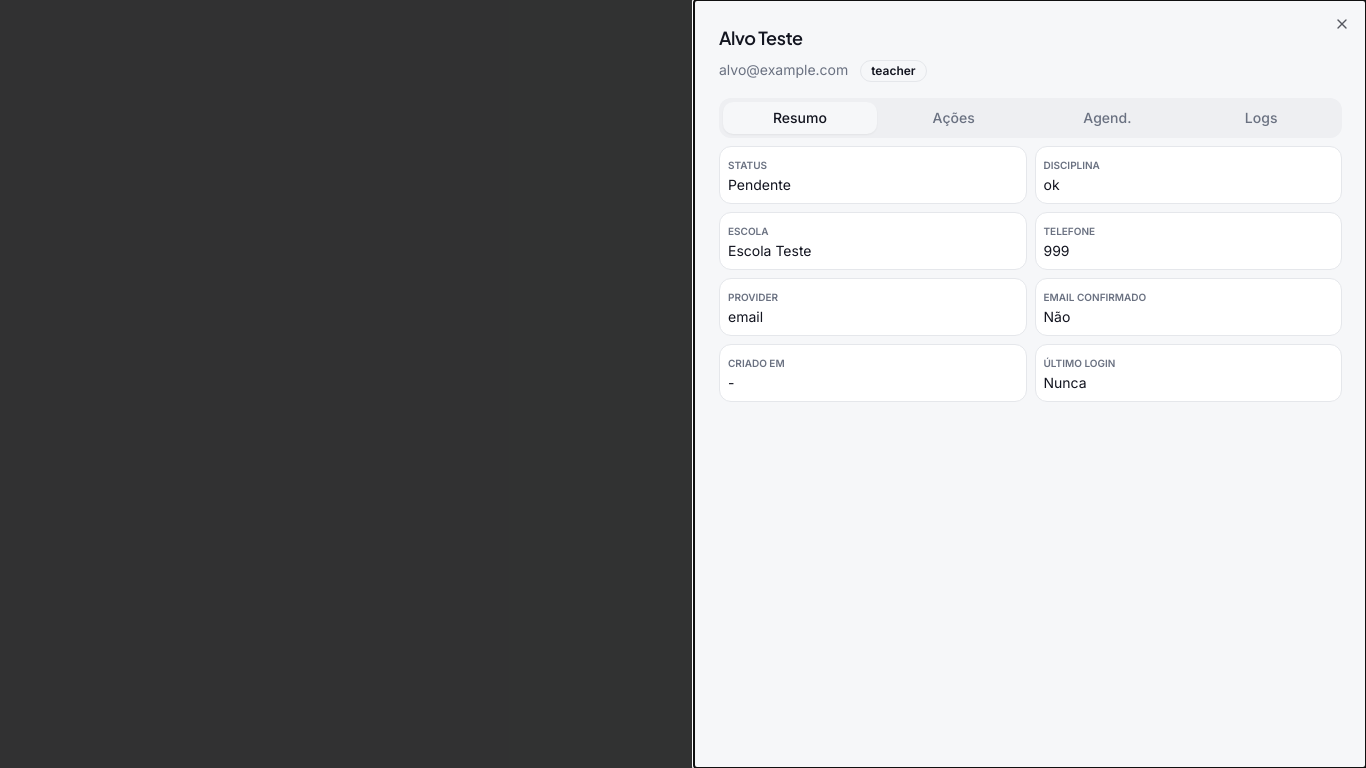
Test: UserDetailDrawer — fluxo auditado (motivo obrigatório) › Alterar função chama admin_set_user_role com novo papel e _reason
The width and height of the screenshot is (1366, 768).
Later steps or results of the test are not shown.
Expected: the text "alvo@example.com teacher" is shown, [719,60,927,82]
Click the tab "Ações": (954, 118) [877,102,1031,134]
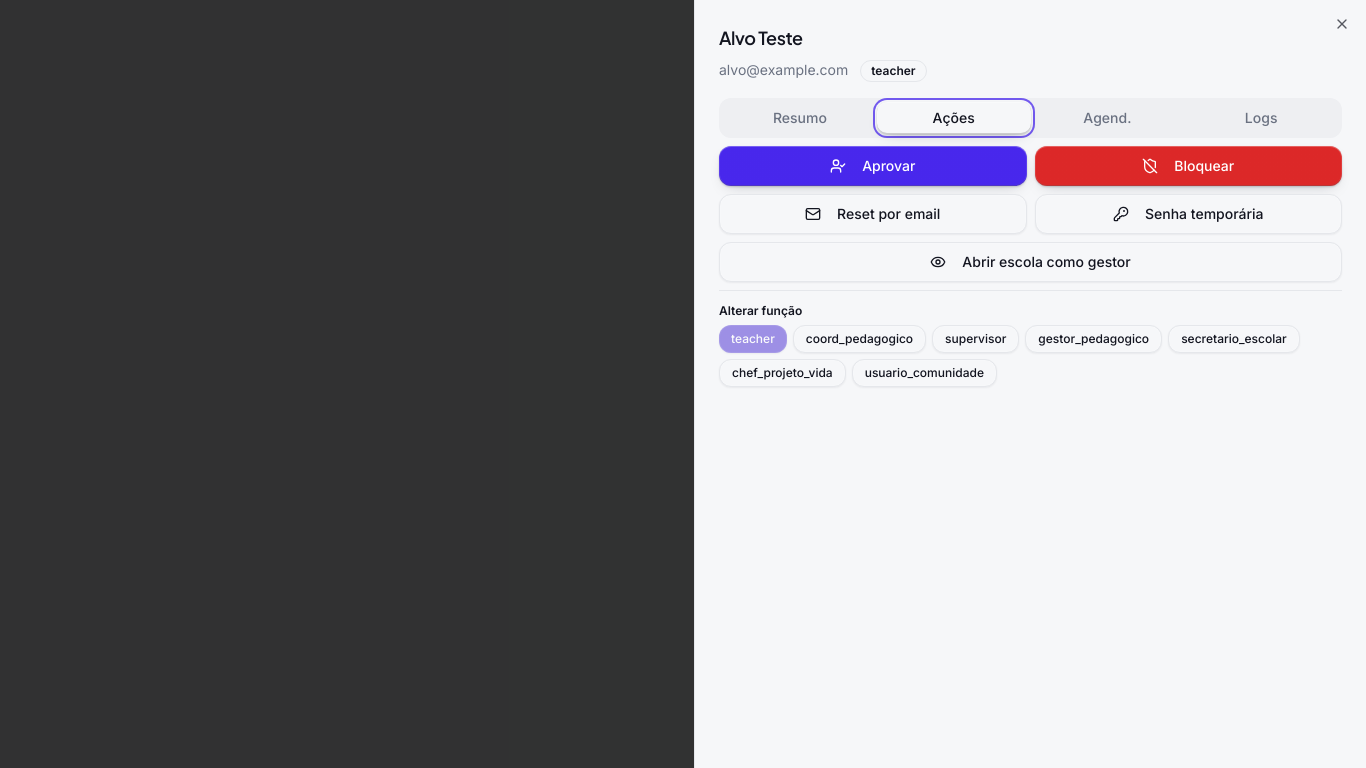
Expected: the panel named "Ações" is shown, [719,146,1342,387]
Click the button "coord_pedagogico": (859, 339) [793,325,926,353]
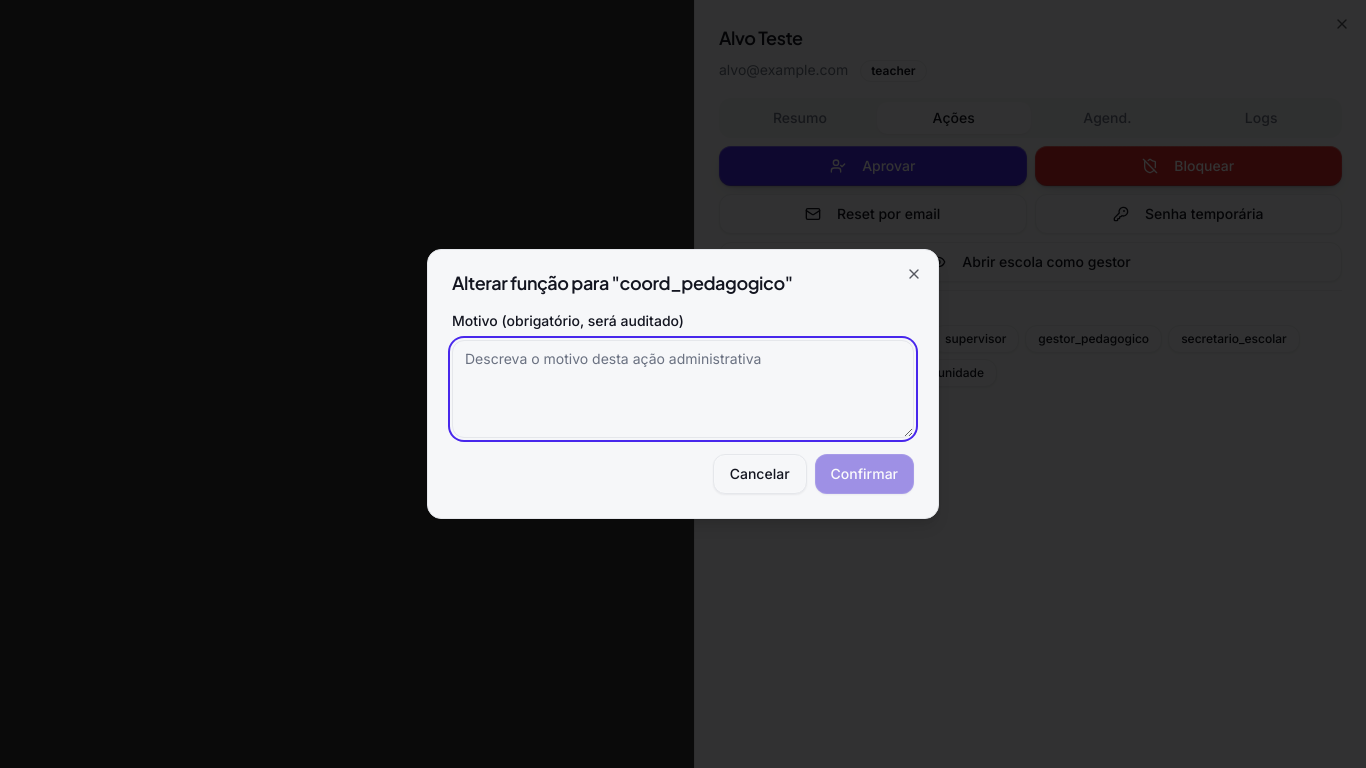
In the text box with placeholder "Descreva o motivo desta ação administrativa": (683, 389) [452,340,914,438], type "Promoção aprovada pela direção"
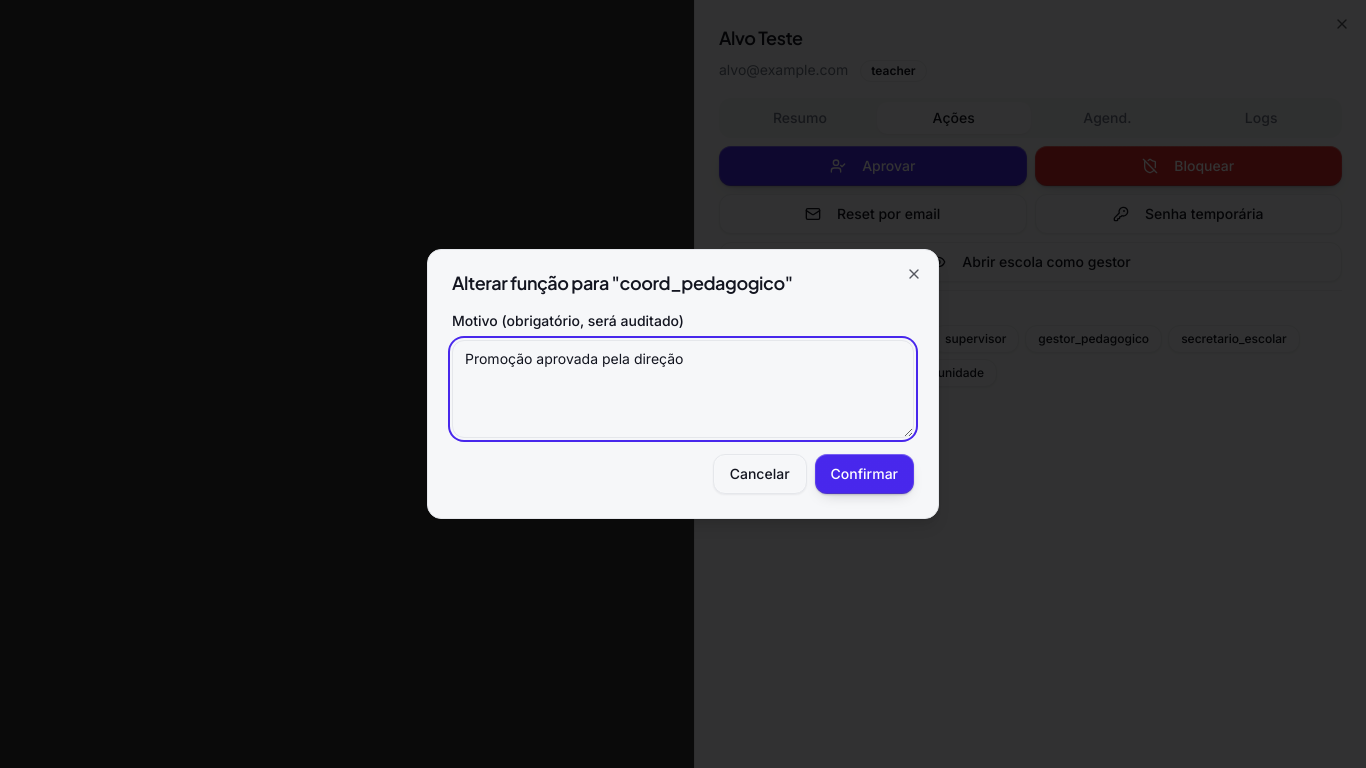
Expected: the button "Confirmar" is enabled, [815,454,914,494]
